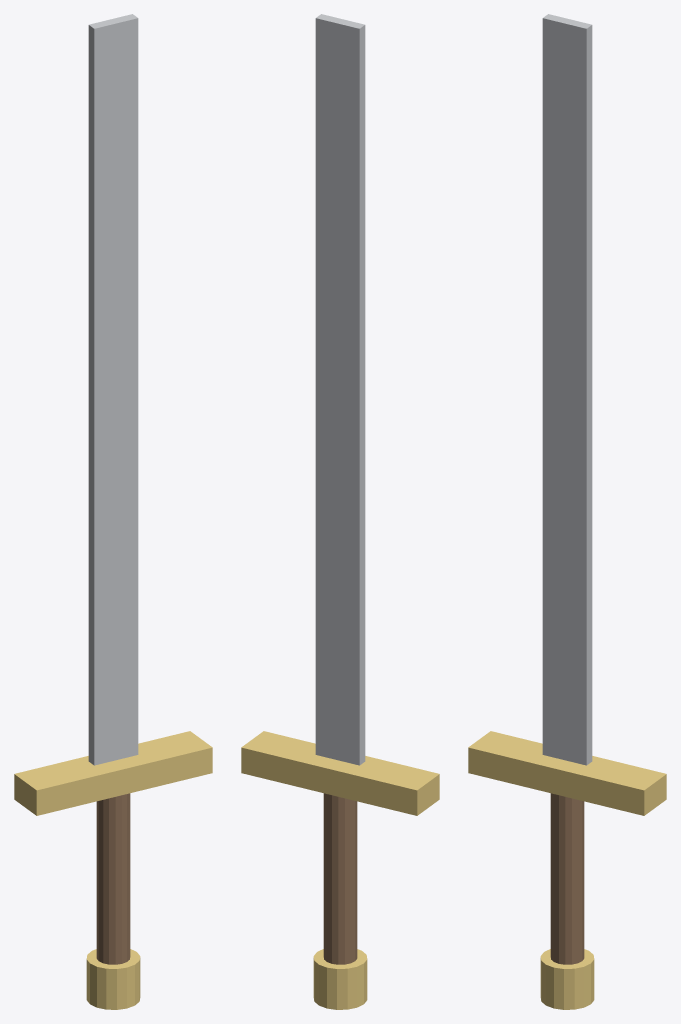
The model's file is sword.glb.
3 renders of one model, left to right at view 1: azimuth 30°, elevation 25°; view 2: azimuth 150°, elevation 25°; view 3: azimuth 330°, elevation 25°, orthographic.
Parts seen in each view (by area): view 1: sword2, sword1, sword0, sword3; view 2: sword2, sword1, sword0, sword3; view 3: sword2, sword1, sword0, sword3.
Part boxes in pixels (x1,y1,x2,y2): sword2: (88,14,138,765); sword1: (14,731,212,815); sword0: (96,793,130,964); sword3: (86,949,140,1009); sword2: (315,14,365,765); sword1: (241,731,439,815); sword0: (323,793,357,964); sword3: (313,949,367,1009); sword2: (542,14,592,765); sword1: (468,731,666,815); sword0: (550,793,584,964); sword3: (540,949,594,1009).
Size of the model in its own units: 0.18 by 0.955 by 0.048.
